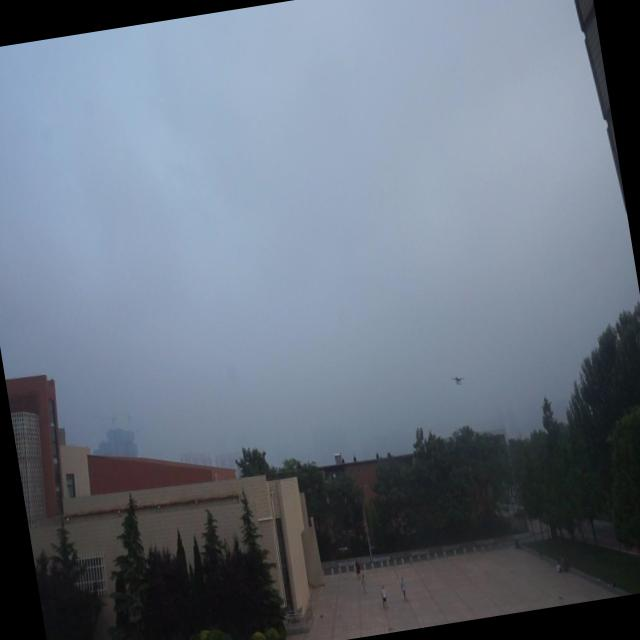drone: (449, 371, 467, 388)
